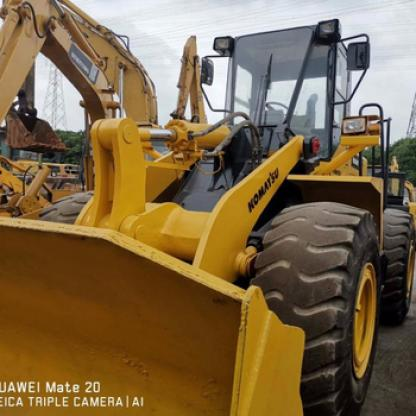bull_dozer/loader/grader: (9, 5, 415, 415)
